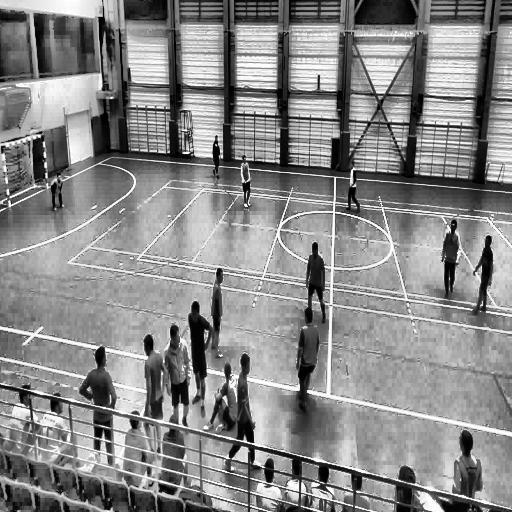ball: (296, 384, 302, 402)
player: (81, 346, 116, 458), (223, 355, 256, 467), (164, 322, 192, 428), (296, 304, 318, 412), (472, 235, 494, 314), (306, 240, 326, 326), (208, 267, 225, 356), (441, 221, 460, 299), (344, 158, 361, 212), (241, 156, 253, 208), (51, 170, 65, 211), (212, 137, 222, 179)
